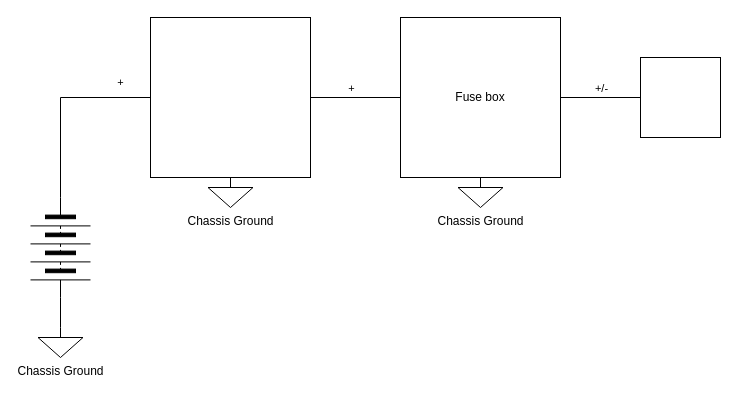
The diagram is 738 pixels wide and 396 high, and some of its shapes have lost their labels. The shapes that lost their labels are listed below. From the top down, each one's centre as x and y in pixels, then its label:
the point at 230,97: Power Regulator Board
the point at 680,97: Sensors
